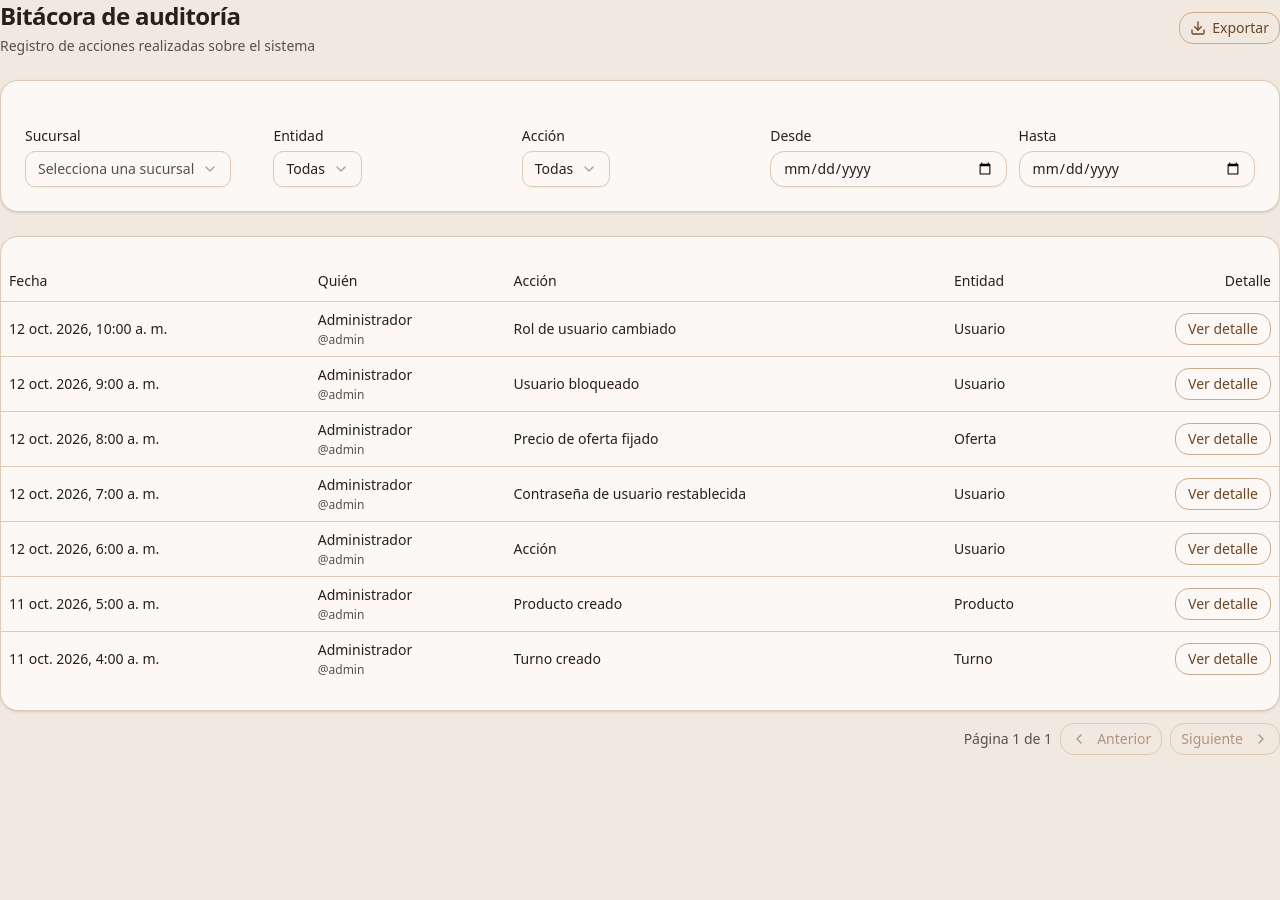
it: Bitácora de auditoría › muestra el resumen antes → después de un cambio de rol
Click the button "Ver detalle" in the row of "12 oct. 2026, 10:00 a. m.".
click(1223, 328)  # box [1175, 312, 1271, 344]
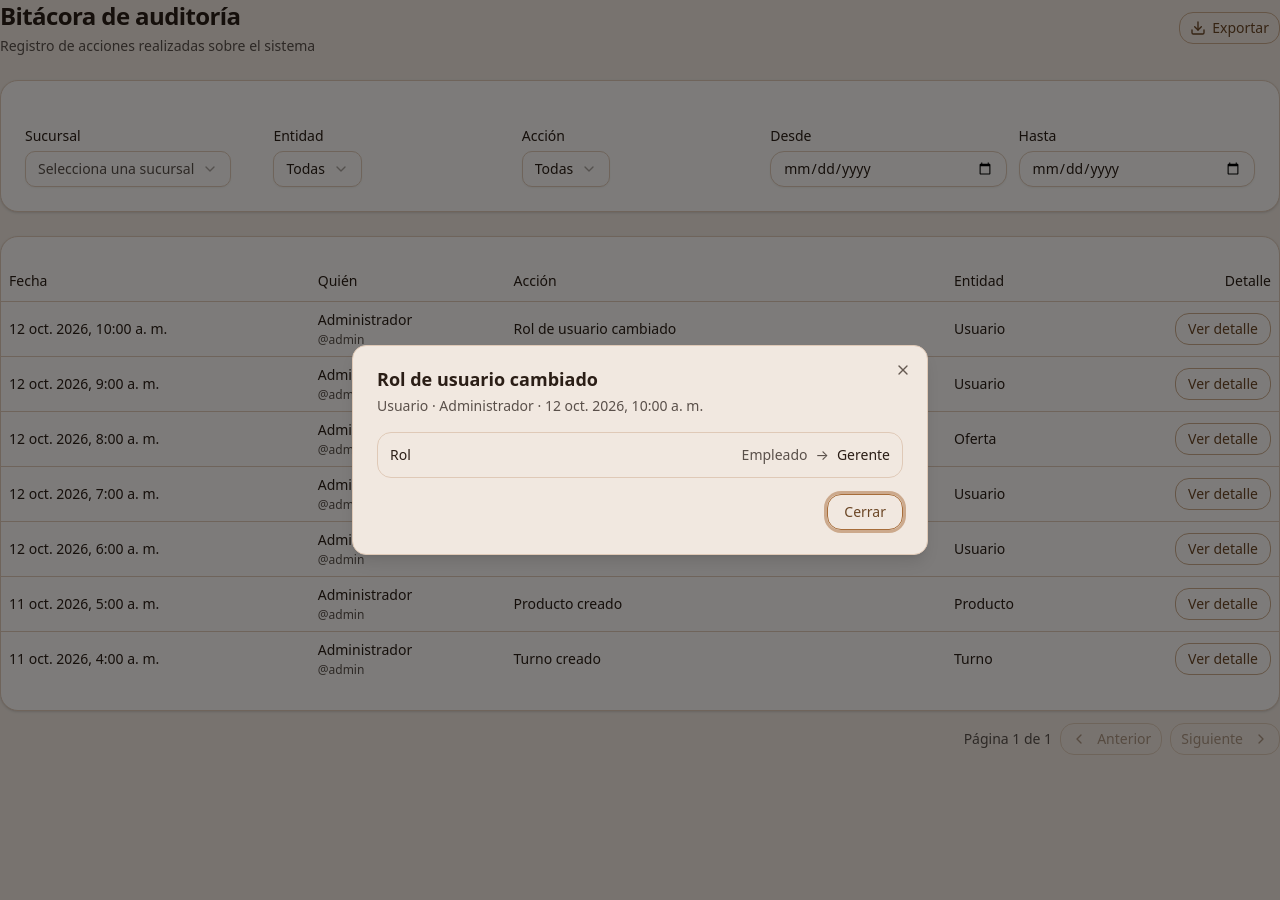
Now the text "Rol" is shown, box [390, 445, 411, 465]
Now the text "Empleado" is shown, box [742, 445, 808, 465]
Now the text "Gerente" is shown, box [837, 445, 890, 465]
